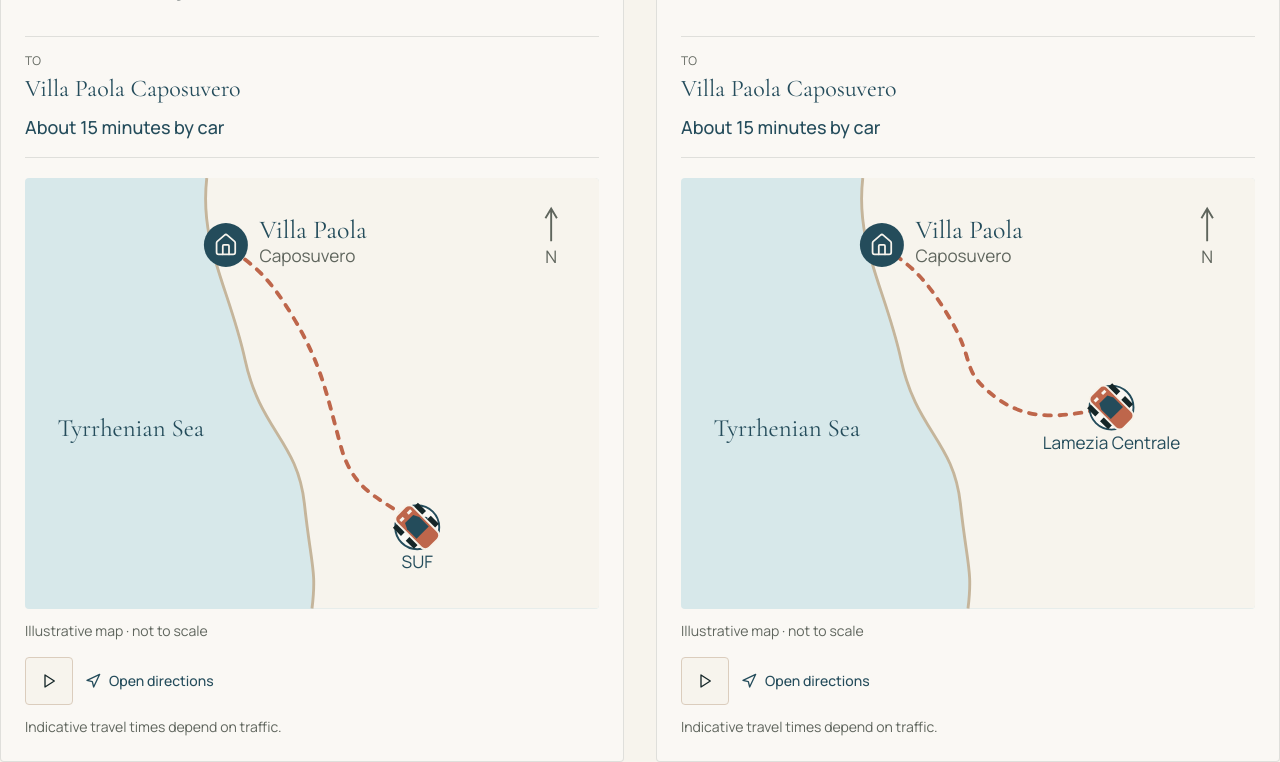
Test: arrival controls › stops an active animation when reduced motion is enabled
(page scrolled)
Click the 1st button named "Play route" at (49, 680), box [25, 656, 73, 704]
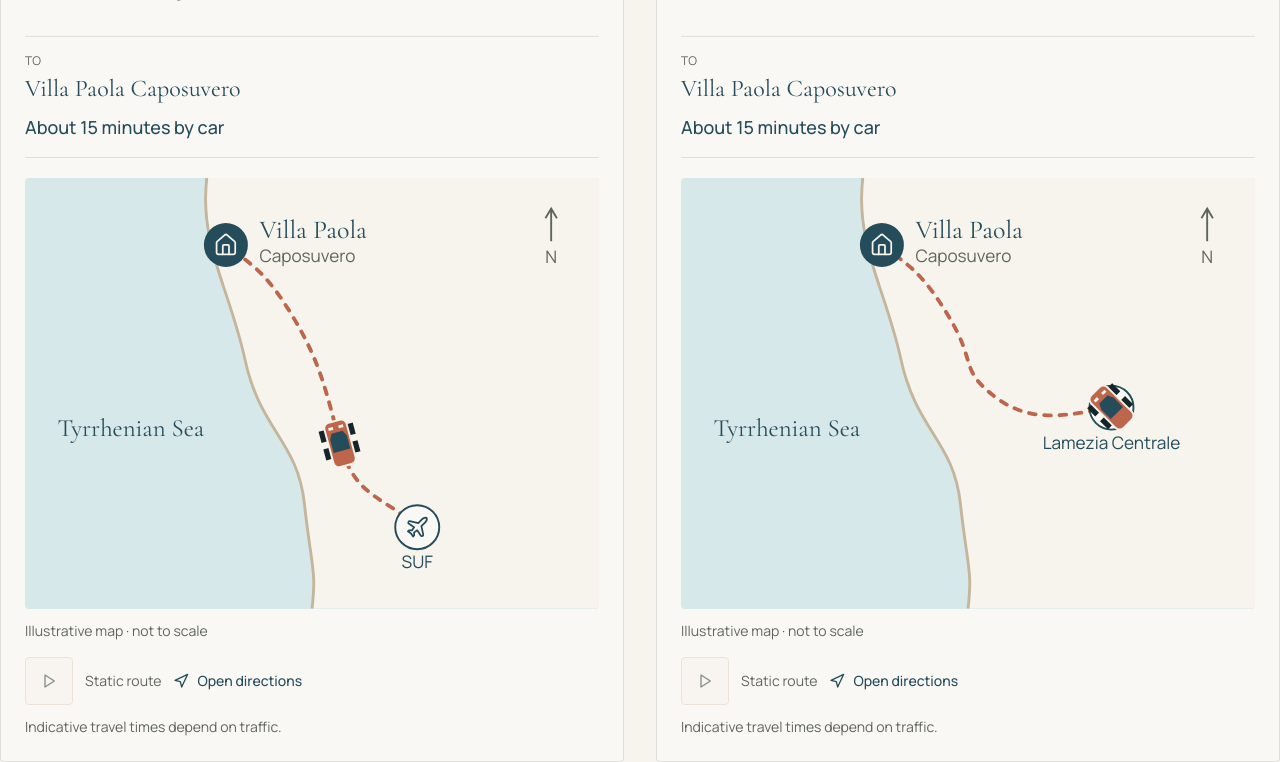
Now the 1st button named "Play route" is disabled, box [25, 656, 73, 704]
